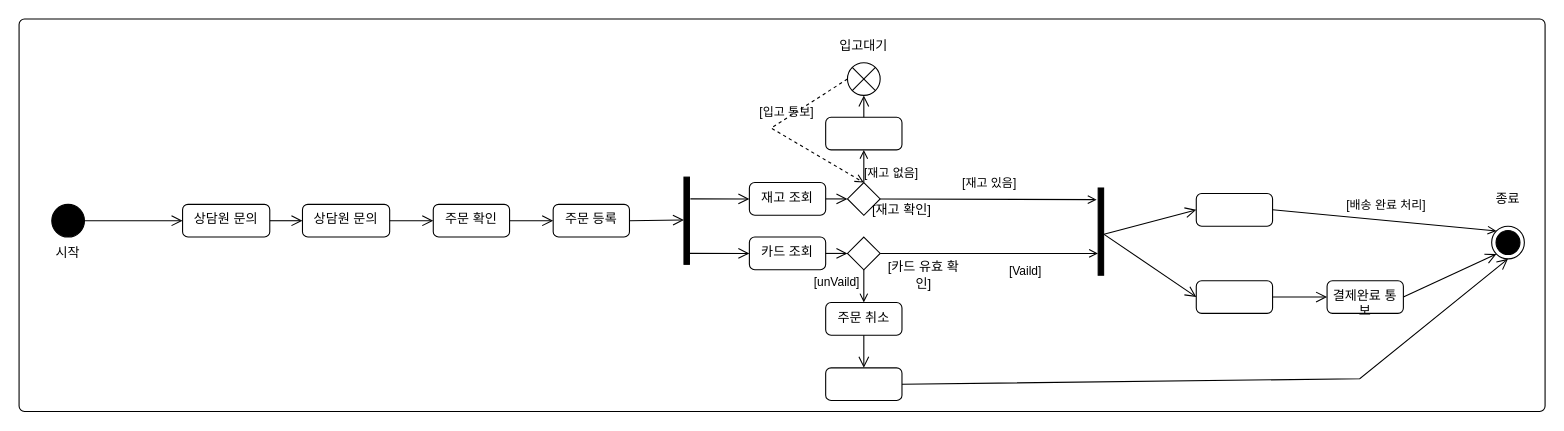
Image size: 1564x431. Some labels were removed from this diagram. The shapes that lost their labels are listed below. From the top down, each one's centre as x and y in pixels, then its label:
At point (863, 133): "입고 요청".
At point (1234, 209): "상품 배송".
At point (1234, 296): "카드 결제".
At point (863, 384): "취소 통보".
